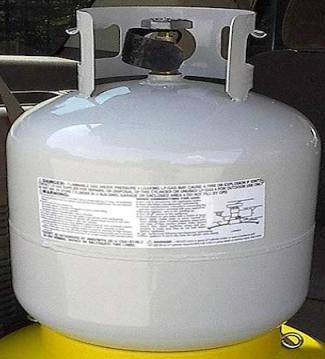cylinder: (1, 1, 325, 359)
